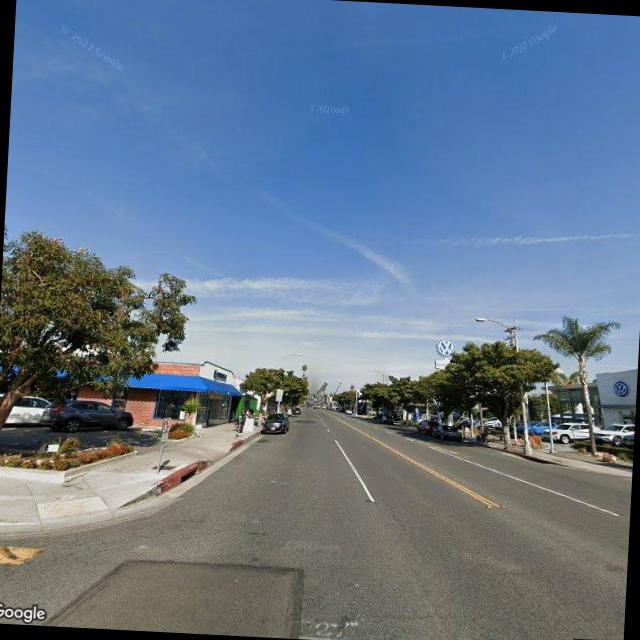crack: (380, 494, 410, 536)
